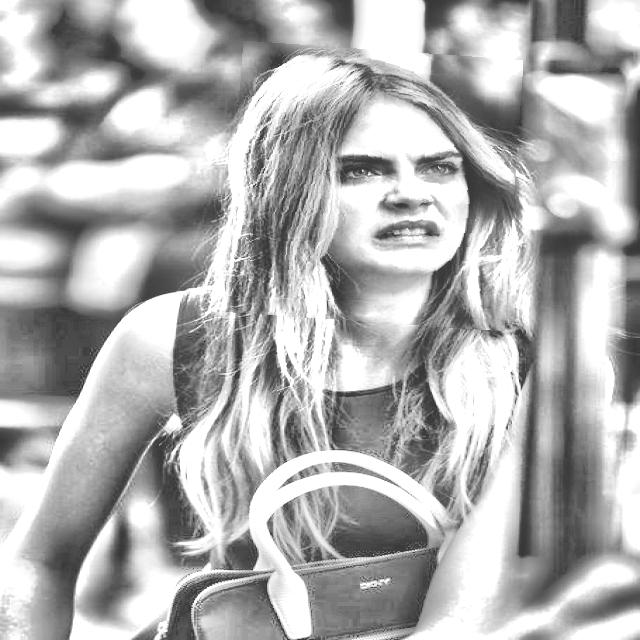disgust: (229, 46, 518, 326)
